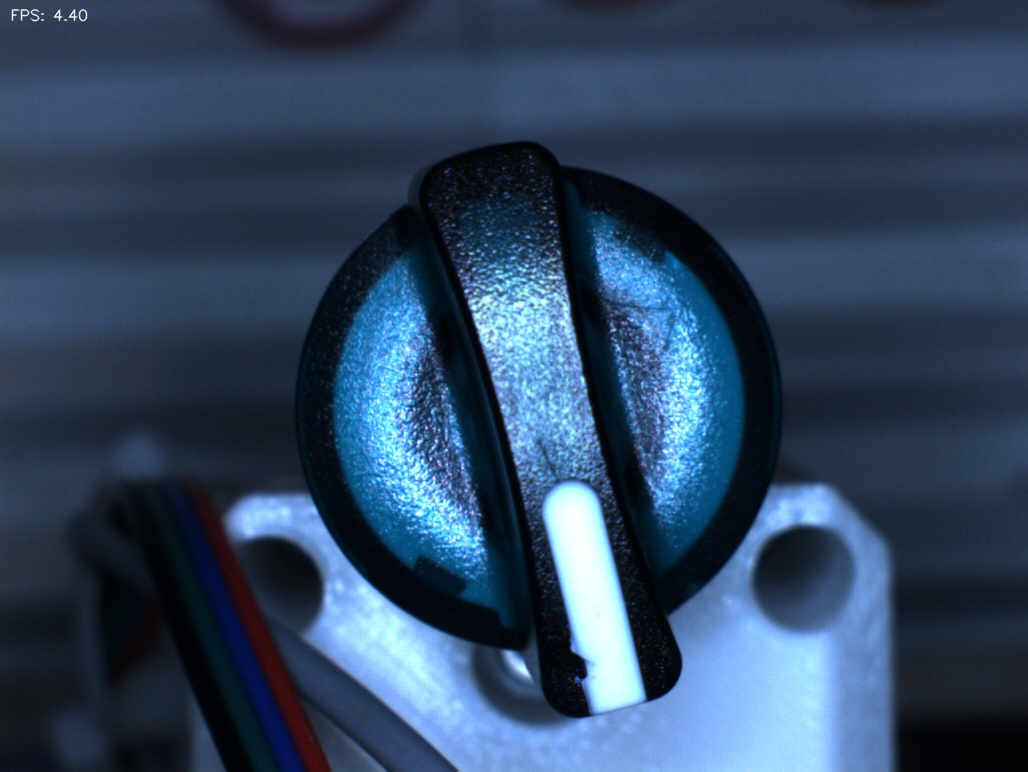Choc: (544, 629, 616, 701)
